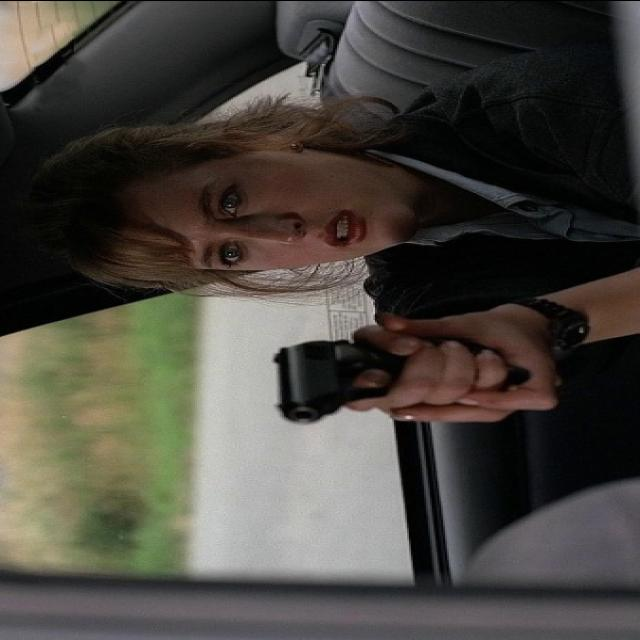weapons: (258, 312, 498, 438)
